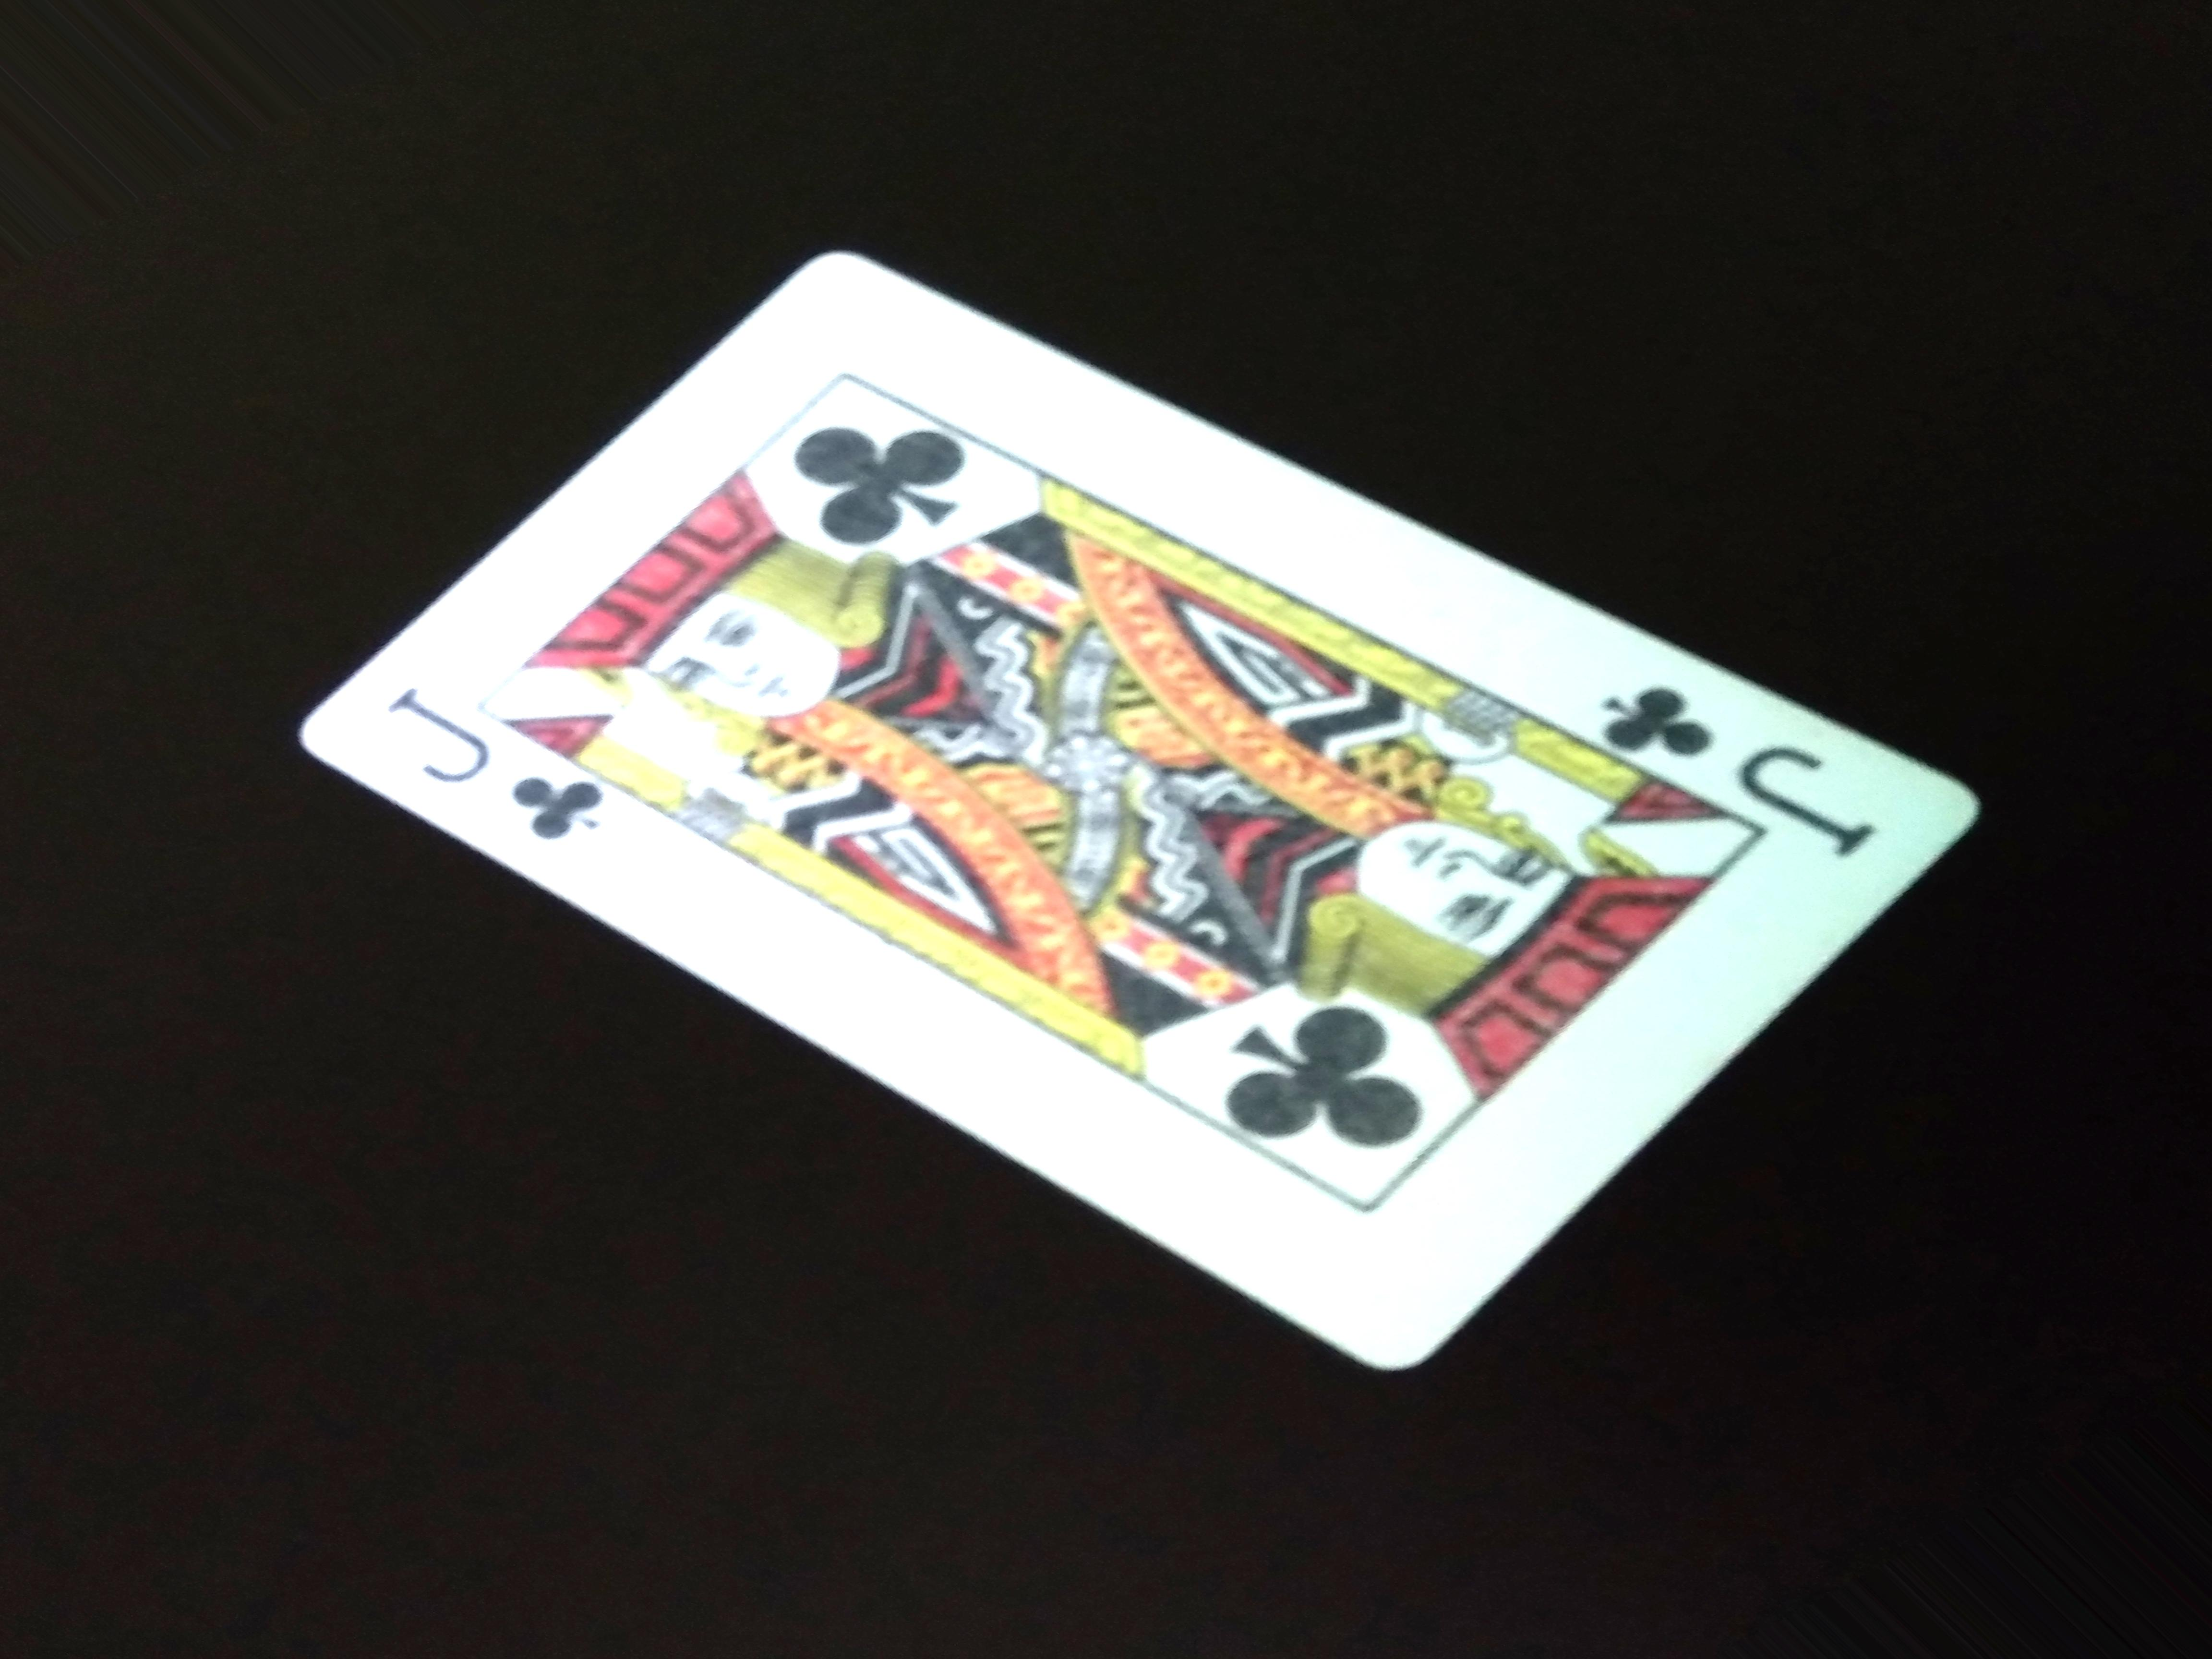JC: (1590, 674, 1869, 859)
